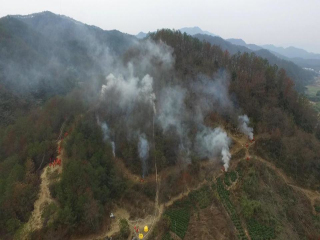smoke: (88, 40, 256, 178)
